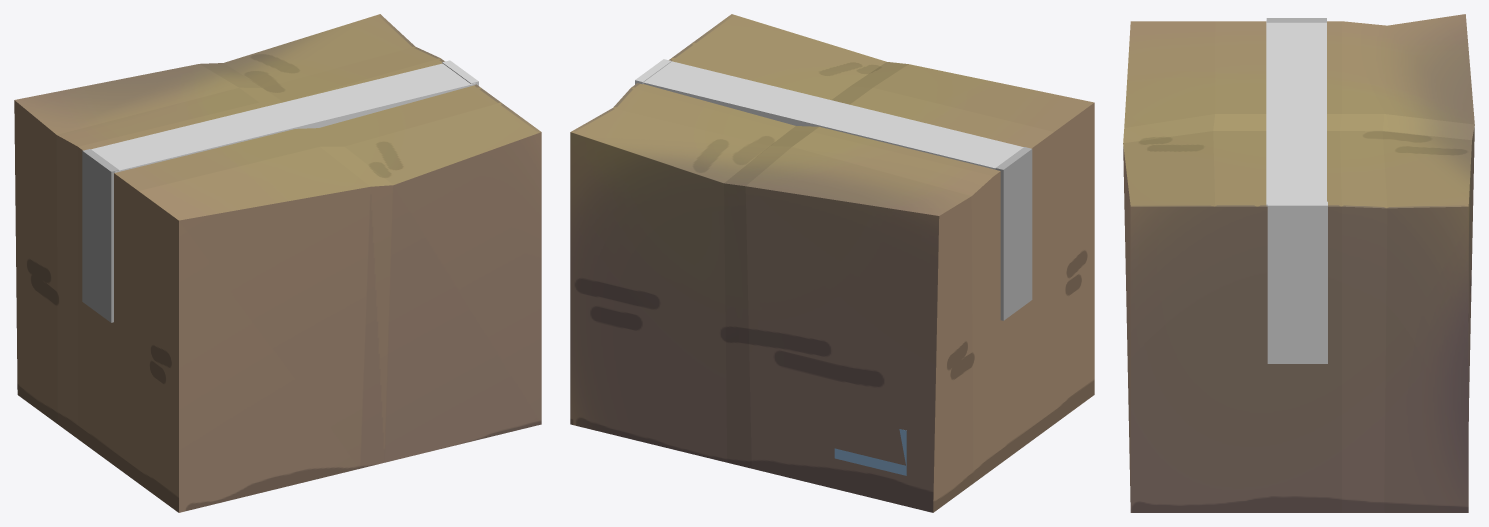
The model's file is caixa.fbx.
The picture shows the model from 3 angles, left to right: view 1: azimuth 30°, elevation 25°; view 2: azimuth 150°, elevation 25°; view 3: azimuth 270°, elevation 25°; orthographic projection. The views are drawn at different scales.
Visible parts, largest first — view 1: Cube, Cube.001, Cube.004; view 2: Cube, Cube.001, Cube.004, Cube.005; view 3: Cube, Cube.001, Cube.003.
Boxes of the visible parts, x1,y1,x2,y2 form: Cube: [14, 14, 541, 512]; Cube.001: [91, 63, 475, 172]; Cube.004: [82, 149, 118, 322]; Cube: [570, 14, 1094, 512]; Cube.001: [643, 61, 1023, 169]; Cube.004: [995, 147, 1032, 320]; Cube.005: [834, 429, 906, 475]; Cube: [1123, 14, 1474, 512]; Cube.001: [1266, 20, 1326, 206]; Cube.003: [1267, 201, 1327, 363].
Size of the model in its own units: 265 by 203 by 208.
Materials: 3 (1 with a texture image).
